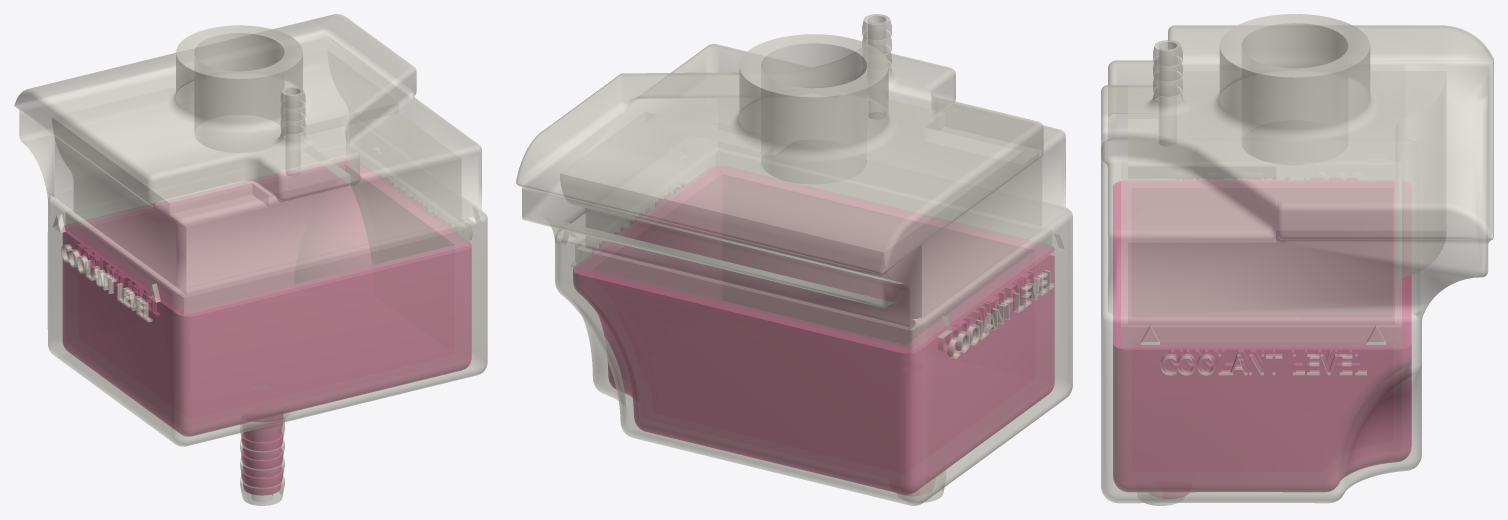
File: coolant_expansion_tank.glb
3 renders of one model, left to right at view 1: azimuth 30°, elevation 25°; view 2: azimuth 150°, elevation 25°; view 3: azimuth 270°, elevation 25°, orthographic. The views are drawn at different scales.
Visible parts, largest first — view 1: tank, tank_fluid; view 2: tank, tank_fluid; view 3: tank, tank_fluid.
Part boxes in pixels (left/top/right/bottom): tank: left=14, top=14, right=487, bottom=505; tank_fluid: left=62, top=159, right=471, bottom=495; tank: left=516, top=14, right=1072, bottom=505; tank_fluid: left=573, top=167, right=1054, bottom=495; tank: left=1101, top=14, right=1493, bottom=505; tank_fluid: left=1113, top=181, right=1411, bottom=498.
Bounding box in the file's own units: 0.133 × 0.155 × 0.1175.
